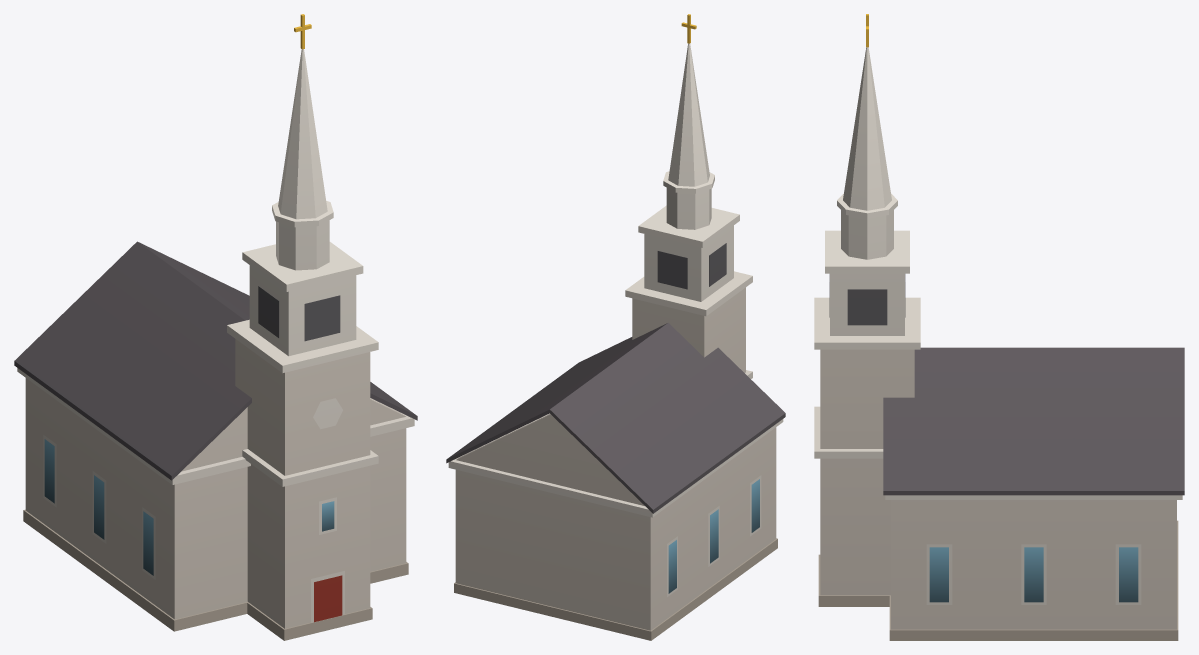
File: park_church_far.glb
3 renders of one model, left to right at view 1: azimuth 30°, elevation 25°; view 2: azimuth 150°, elevation 25°; view 3: azimuth 270°, elevation 25°, orthographic. The views are drawn at different scales.
Parts seen in each view (by area): view 1: park_church_far; view 2: park_church_far; view 3: park_church_far.
Boxes of the visible parts, x1,y1,x2,y2 form: park_church_far: [14, 14, 417, 640]; park_church_far: [446, 14, 785, 640]; park_church_far: [814, 14, 1184, 640].
Bounding box in the file's own units: 13.8 × 32 × 18.8.
1 material, 1 textured.
